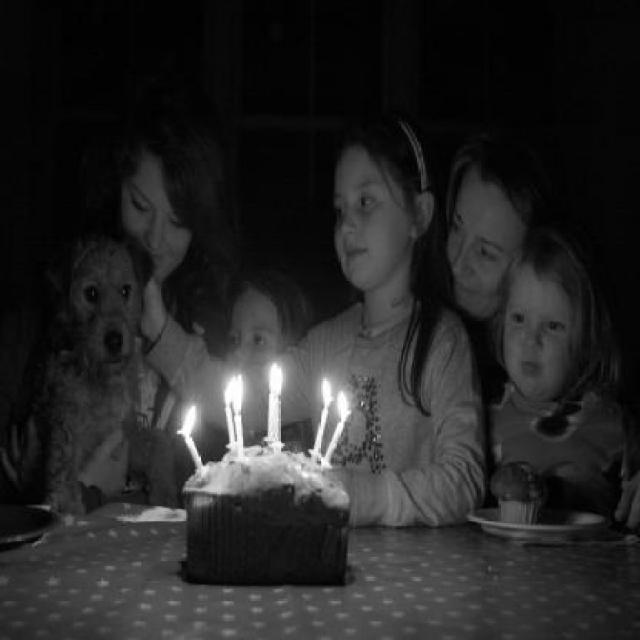Cake: (180, 442, 356, 590)
